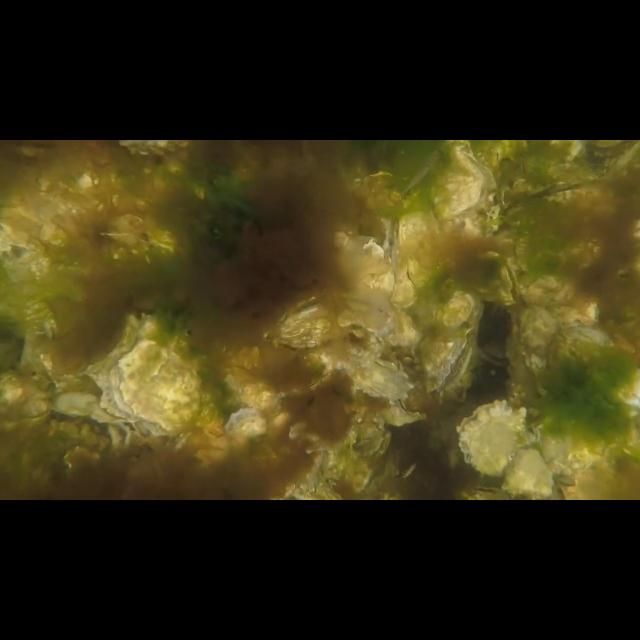Oyster-Closed: (532, 411, 616, 483), (420, 324, 474, 394), (339, 350, 413, 398), (382, 396, 428, 426)
Oyster-Indeterminate: (112, 339, 205, 435), (548, 325, 640, 411), (454, 398, 528, 474), (427, 140, 489, 220), (398, 210, 448, 294), (268, 299, 350, 349), (518, 304, 560, 396), (389, 238, 417, 308), (442, 288, 480, 332), (224, 406, 268, 442)
Oyster-Open: (528, 176, 610, 207), (498, 264, 520, 306)
